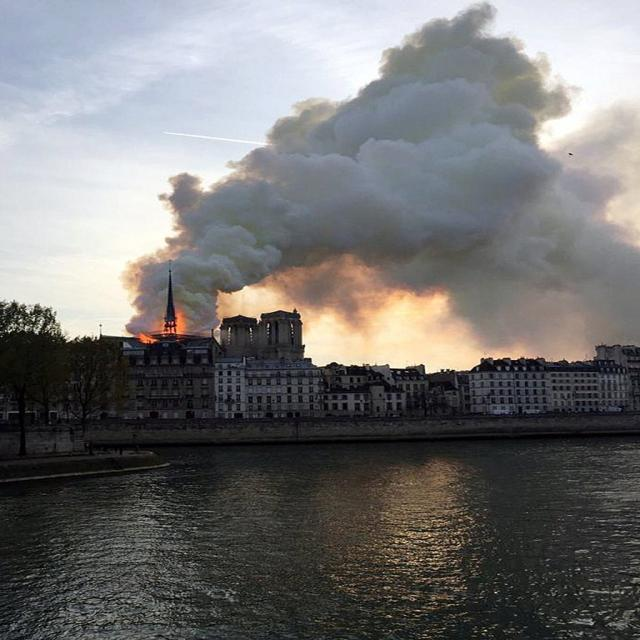Fire: (136, 308, 191, 348)
Smoke: (117, 0, 640, 310)
